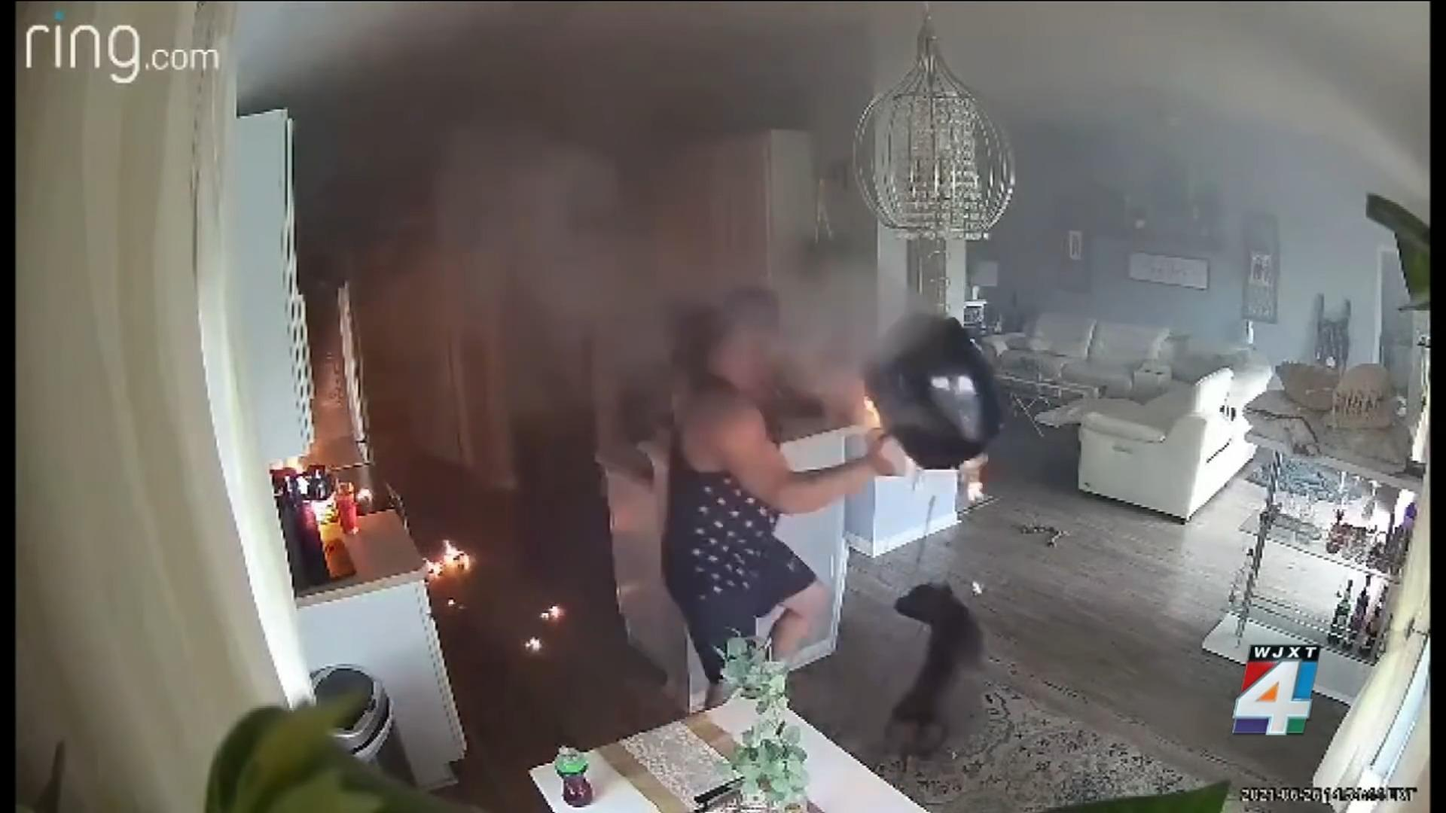fire: (422, 538, 471, 575), (541, 604, 563, 620), (526, 636, 542, 652)
